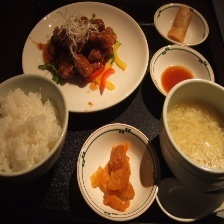rice: (0, 87, 65, 174)
